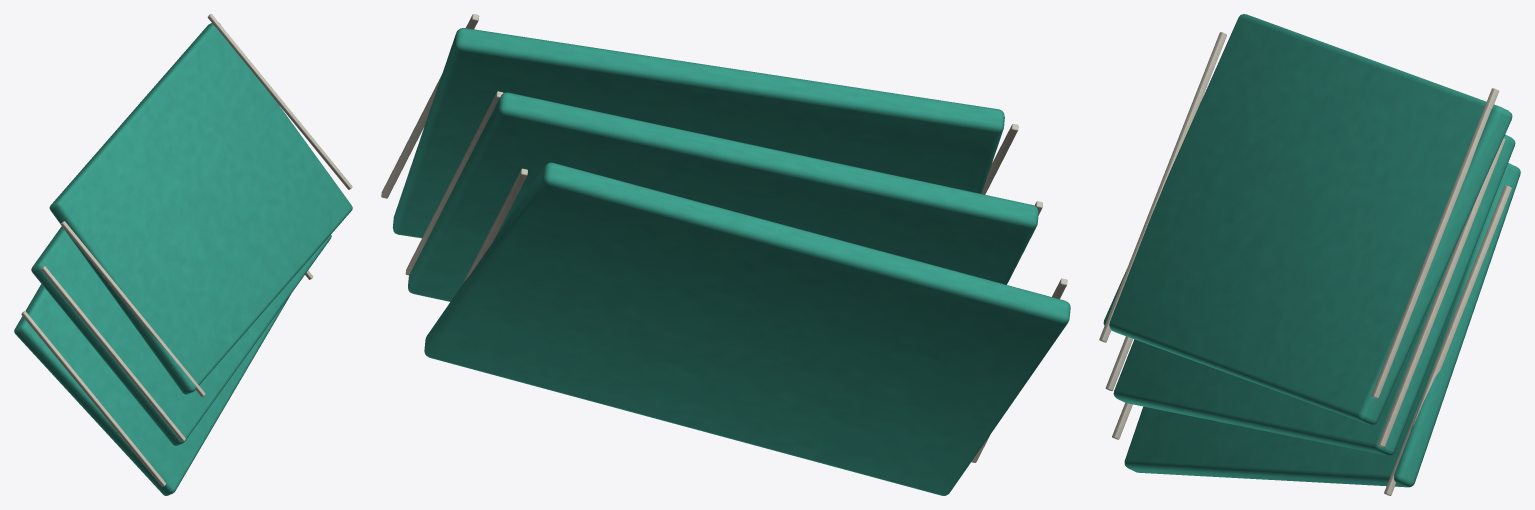
3 views of the same model, side by side, from view 1: azimuth 30°, elevation 25°; view 2: azimuth 150°, elevation 25°; view 3: azimuth 270°, elevation 25° (orthographic). The views are drawn at different scales.
Parts seen in each view (by area): view 1: Thick warped glass pane; view 2: Thick warped glass pane; view 3: Thick warped glass pane.
Boxes of the visible parts, left/top/right/bottom form: Thick warped glass pane: left=14, top=14, right=352, bottom=495; Thick warped glass pane: left=381, top=14, right=1070, bottom=495; Thick warped glass pane: left=1099, top=14, right=1520, bottom=495.
Size of the model in its own units: 1.22 by 1.06 by 0.8086.
1 material, 1 textured.
